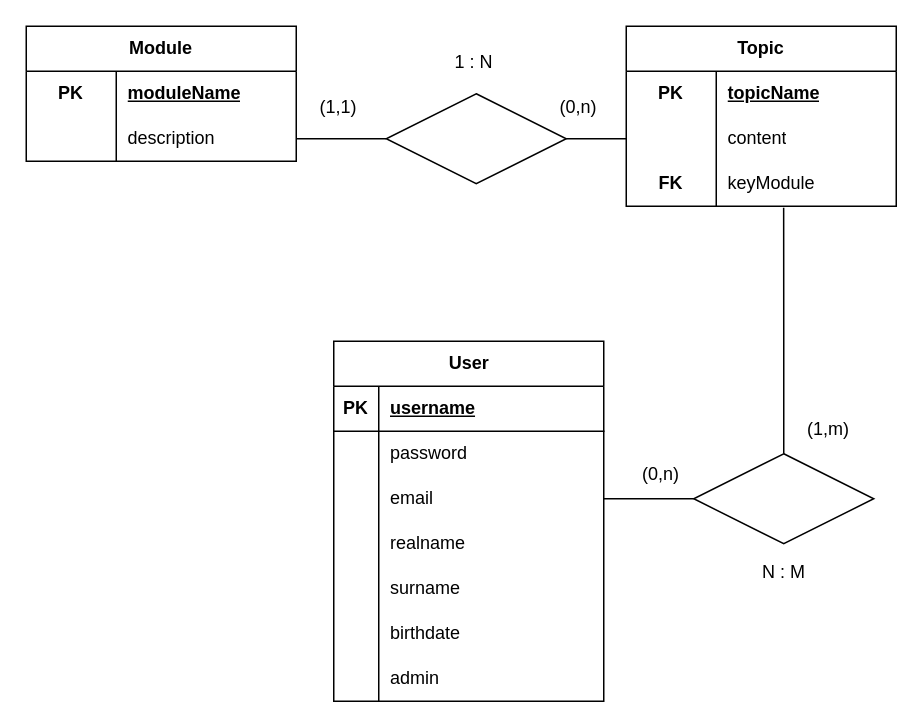
The diagram is 923 pixels wide and 728 high, and some of its shapes have lost their labels. Each missing label, with the centre of its shape:
"estudia" goes at point 783,498.
"tiene" goes at point 475,138.
